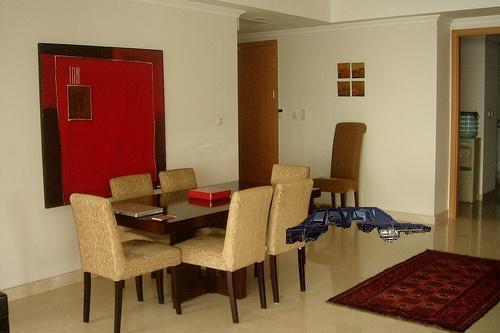tampered: (287, 208, 431, 244)
